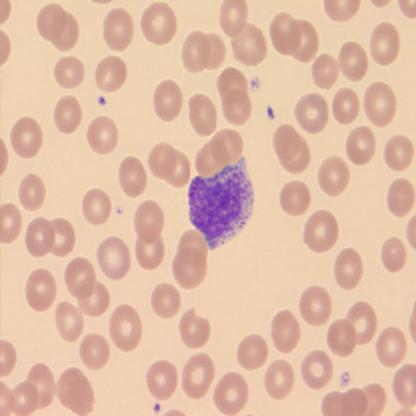Myelocyte: (188, 163, 254, 246)
